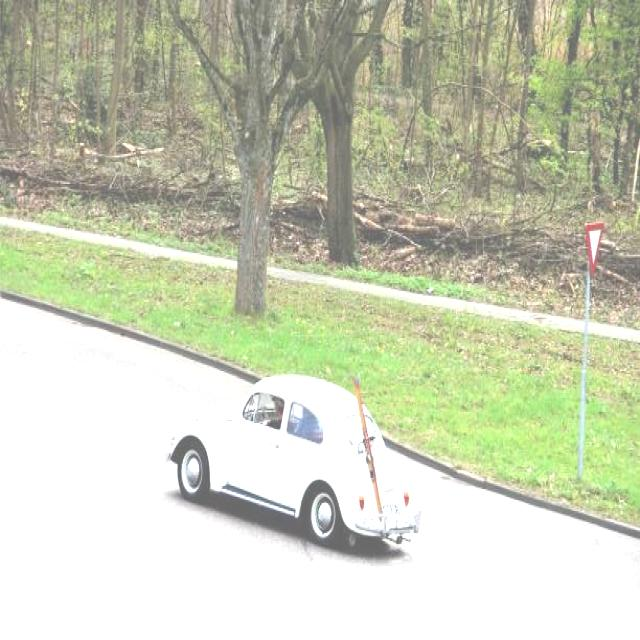car: (171, 375, 419, 548)
